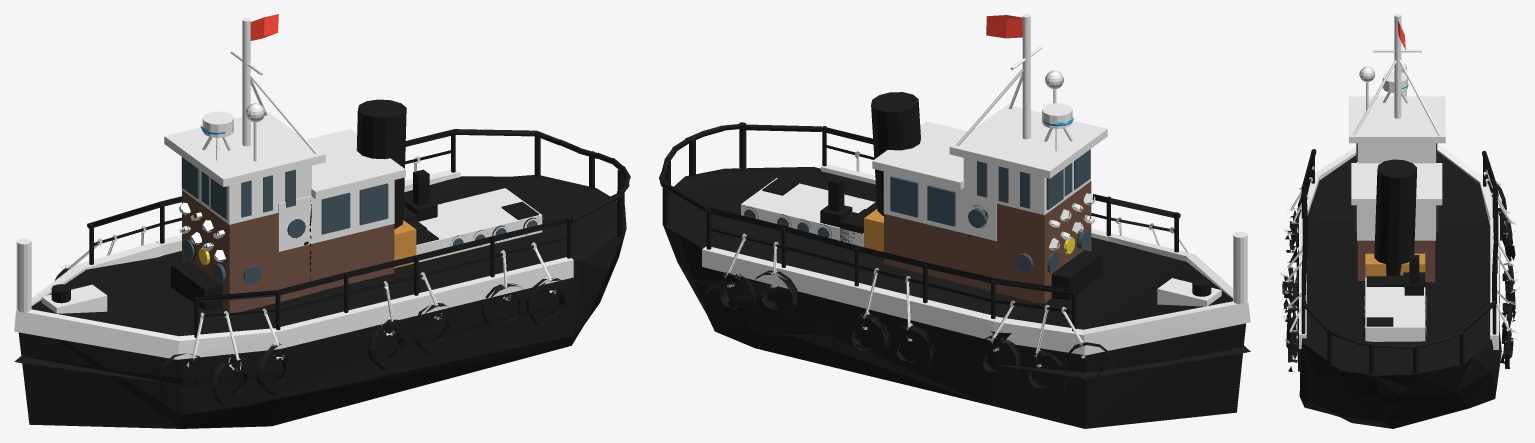
The picture shows the model from 3 angles, left to right: view 1: azimuth 30°, elevation 25°; view 2: azimuth 150°, elevation 25°; view 3: azimuth 270°, elevation 25°; orthographic projection. The views are drawn at different scales.
Visible parts, largest first — view 1: group986023678, group1483103472, group1630688789, group1688934664, group1070107753, group1491409755, group940573650, group727606289, group1545471277, group1026484787, group1935290195, group1961124225 (+19 smaller); view 2: group986023678, group1483103472, group1646897682, group1630688789, group1207921442, group940573650, group1491409755, group727606289, group1545471277, group1935290195, group1073760931, group1026484787 (+19 smaller); view 3: group986023678, group1630688789, group727606289, group1491409755, group1026484787, group1935290195, group1545471277, group940573650, group838769383, group1073760931, group314514673, group1646897682 (+21 smaller).
Boxes of the visible parts, x1,y1,x2,y2 form: group986023678: [18, 175, 626, 428]; group1483103472: [182, 190, 312, 312]; group1630688789: [164, 111, 325, 186]; group1688934664: [279, 257, 573, 348]; group1070107753: [14, 309, 179, 359]; group1491409755: [307, 129, 405, 199]; group940573650: [311, 224, 394, 293]; group727606289: [356, 99, 406, 229]; group1545471277: [278, 180, 394, 251]; group1026484787: [442, 188, 542, 247]; group1935290195: [181, 157, 311, 224]; group1961124225: [192, 218, 571, 302]; group986023678: [663, 167, 1245, 428]; group1483103472: [964, 181, 1091, 303]; group1646897682: [702, 246, 998, 340]; group1630688789: [949, 104, 1107, 178]; group1207921442: [1082, 301, 1250, 355]; group940573650: [884, 214, 964, 284]; group1491409755: [872, 121, 967, 189]; group727606289: [871, 92, 920, 215]; group1545471277: [883, 171, 996, 241]; group1935290195: [963, 149, 1090, 215]; group1073760931: [705, 207, 1077, 295]; group1026484787: [741, 178, 828, 229]; group986023678: [1299, 151, 1501, 428]; group1630688789: [1349, 96, 1445, 143]; group727606289: [1374, 159, 1417, 275]; group1491409755: [1351, 163, 1442, 205]; group1026484787: [1365, 302, 1425, 341]; group1935290195: [1358, 143, 1435, 163]; group1545471277: [1357, 162, 1435, 240]; group940573650: [1357, 240, 1435, 282]; group838769383: [1365, 277, 1425, 302]; group1073760931: [1482, 151, 1498, 303]; group314514673: [1394, 14, 1401, 118]; group1646897682: [1490, 216, 1499, 349].
Bounding box in the file's own units: 4.59 × 2.71 × 1.97.
